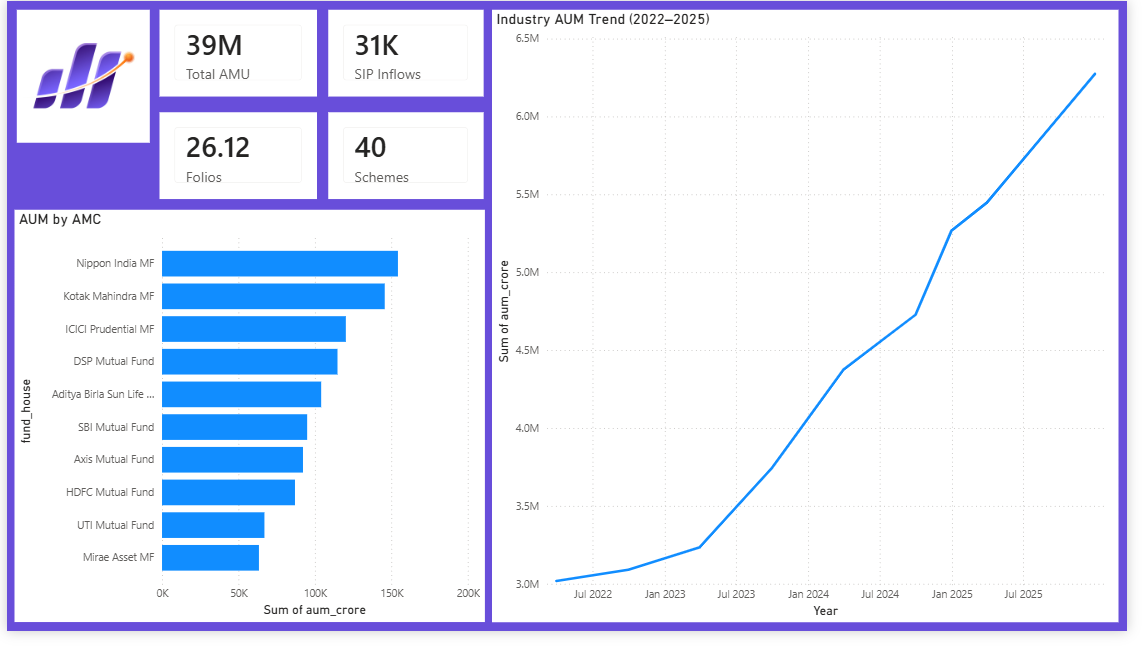

Layout of this report page (visuals, bound fields, positions):
{"tool":"powerbi","page":{"name":"Industry Overview ","canvas":[1280,720],"ordinal":0},"visuals":[{"type":"cardVisual","fields":{"Data":["Sum(03_aum_by_fund_house.aum_crore)"]},"box":[174.4,9.3,180.2,98.8],"z":0},{"type":"cardVisual","fields":{"Data":["Max(04_monthly_sip_inflows.sip_inflow_crore)"]},"box":[367.4,9.3,177.9,98.8],"z":1},{"type":"cardVisual","fields":{"Data":["Max(06_industry_folio_count.total_folios_crore)"]},"box":[174.4,126.7,180.2,98.8],"z":2},{"type":"cardVisual","fields":{"Data":["CountNonNull(01_fund_master.amfi_code)"]},"box":[367.4,126.7,177.9,98.8],"z":3},{"type":"lineChart","title":"Industry AUM Trend (2022–2025)","fields":{"Y":["Sum(03_aum_by_fund_house.aum_crore)"],"Category":["03_aum_by_fund_house.date.Variation.Date Hierarchy.Year","03_aum_by_fund_house.date.Variation.Date Hierarchy.Quarter","03_aum_by_fund_house.date.Variation.Date Hierarchy.Month","03_aum_by_fund_house.date.Variation.Date Hierarchy.Day"]},"box":[554.7,9.3,716.3,700],"z":4},{"type":"clusteredBarChart","title":"AUM by AMC","fields":{"Category":["07_scheme_performance.fund_house"],"Y":["Sum(07_scheme_performance.aum_crore)"]},"box":[8.1,238.4,537.2,470.9],"z":5},{"type":"image","box":[0,9.3,174.4,152.3],"z":6}]}

Visuals, with their boxes in screenshot pixels (x1, y1, x2, y2), scaled from the page's 1280x720 canvas onto the 1143x646 screenshot:
cardVisual - Sum(03_aum_by_fund_house.aum_crore): <bbox>156, 8, 317, 97</bbox>
cardVisual - Max(04_monthly_sip_inflows.sip_inflow_crore): <bbox>328, 8, 487, 97</bbox>
cardVisual - Max(06_industry_folio_count.total_folios_crore): <bbox>156, 114, 317, 202</bbox>
cardVisual - CountNonNull(01_fund_master.amfi_code): <bbox>328, 114, 487, 202</bbox>
"Industry AUM Trend (2022–2025)" lineChart: <bbox>495, 8, 1135, 636</bbox>
"AUM by AMC" clusteredBarChart: <bbox>7, 214, 487, 636</bbox>
image: <bbox>0, 8, 156, 145</bbox>
